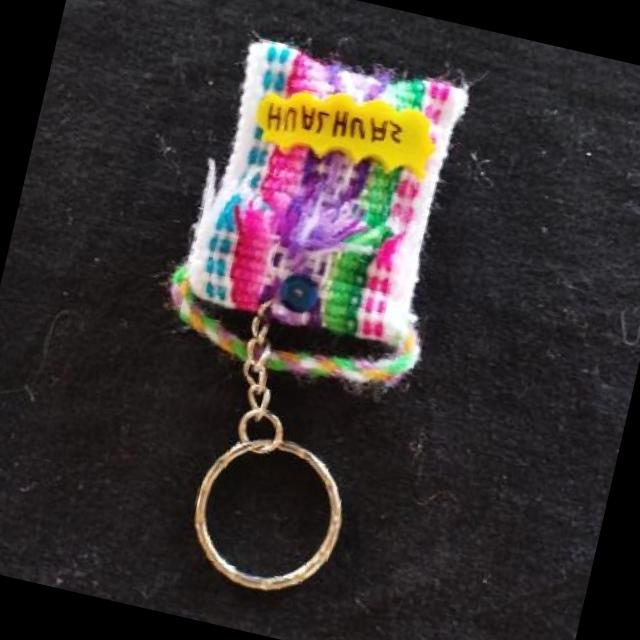Llavero: (154, 26, 482, 403)
